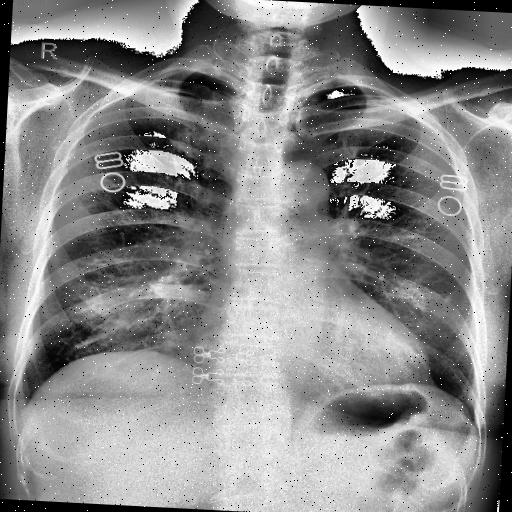0- Aortic enlargement: (265, 158, 331, 222), (278, 158, 332, 208)
3- Cardiomegaly: (184, 322, 440, 392), (191, 328, 439, 388)
8- Nodule-Mass: (88, 258, 208, 357)
